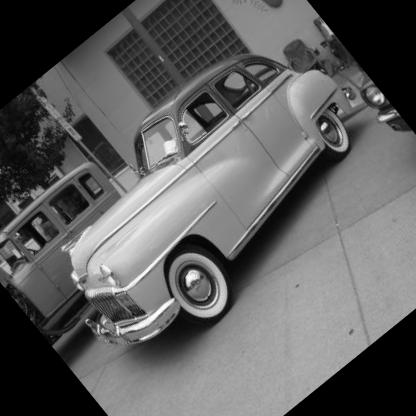car: (1, 1, 416, 396)
